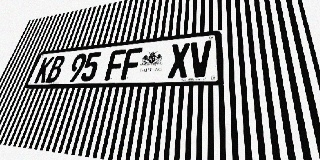5: (80, 52, 102, 81)
9: (66, 53, 88, 82)
B: (45, 55, 66, 83)
F: (120, 47, 143, 80), (104, 49, 126, 81)
K: (34, 56, 55, 83)
V: (189, 40, 211, 78)
X: (168, 42, 190, 78)
